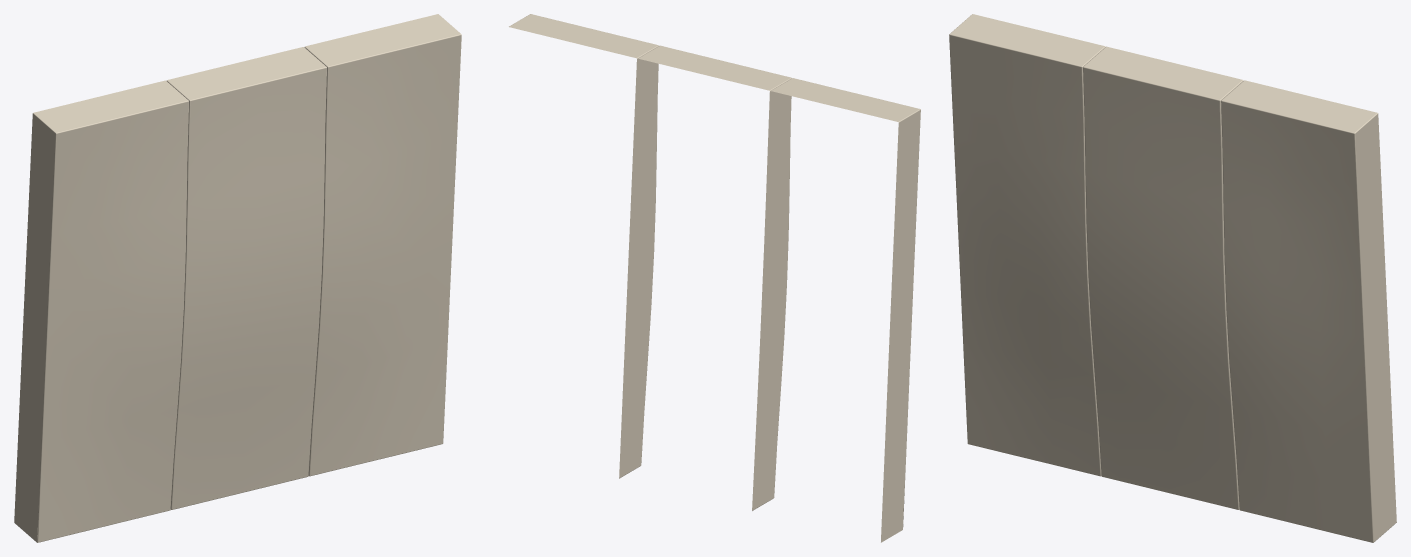
Rendered from cream.glb.
3 views of the same model, side by side, from view 1: azimuth 30°, elevation 25°; view 2: azimuth 150°, elevation 25°; view 3: azimuth 330°, elevation 25° (orthographic). The views are drawn at different scales.
Visible parts, largest first — view 1: Object012; view 2: Object012; view 3: Object012.
Part boxes in pixels (x1,y1,x2,y2): Object012: (14, 14, 461, 542); Object012: (509, 14, 920, 542); Object012: (949, 14, 1396, 542).
Bounding box in the file's own units: 0.0528 × 0.053 × 0.00946.
